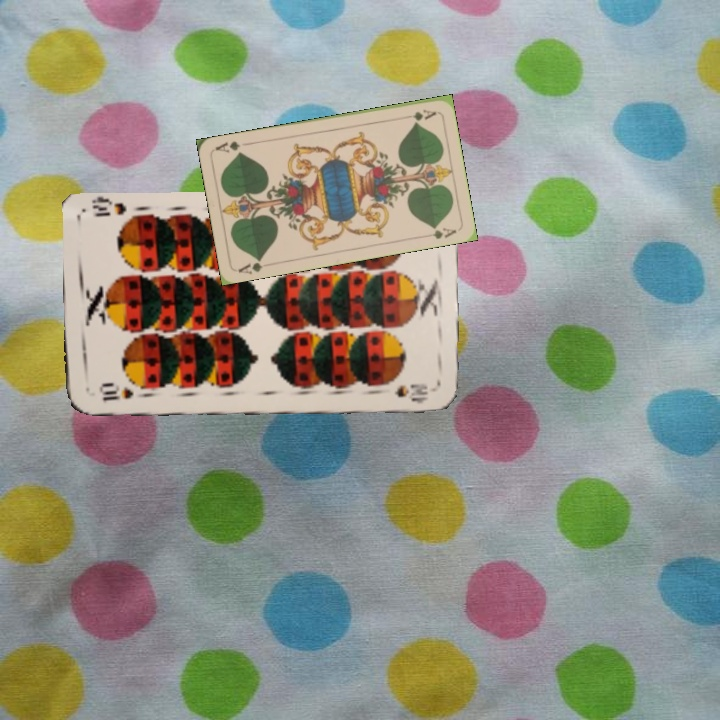GA: (398, 105, 439, 123), (234, 254, 265, 276)
S10: (94, 383, 137, 403)
